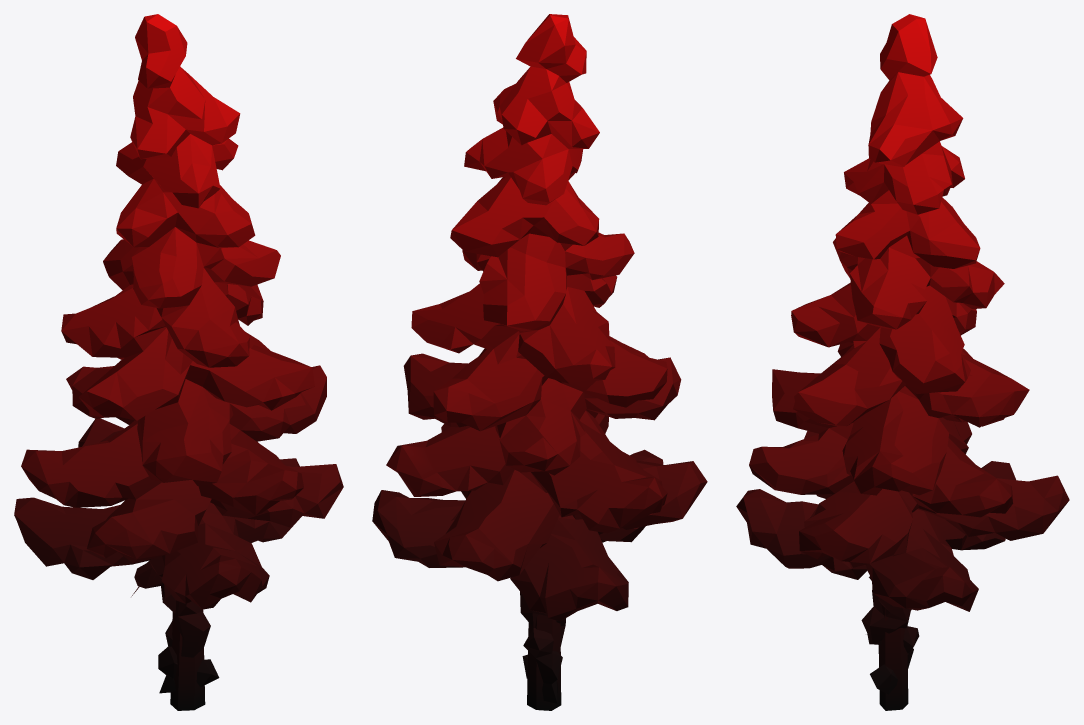
File: TreeSpruce01_Snow.fbx
The picture shows the model from 3 angles, left to right: view 1: azimuth 30°, elevation 25°; view 2: azimuth 150°, elevation 25°; view 3: azimuth 270°, elevation 25°; orthographic projection. The views are drawn at different scales.
Visible parts, largest first — view 1: TreeSpruce01_Snow_LOD0; view 2: TreeSpruce01_Snow_LOD0; view 3: TreeSpruce01_Snow_LOD0.
Boxes of the visible parts, x1,y1,x2,y2 form: TreeSpruce01_Snow_LOD0: (14, 14, 343, 710); TreeSpruce01_Snow_LOD0: (372, 14, 707, 710); TreeSpruce01_Snow_LOD0: (736, 14, 1069, 710).
Size of what is drawn, in the model's own units: 191 by 447 by 200.
